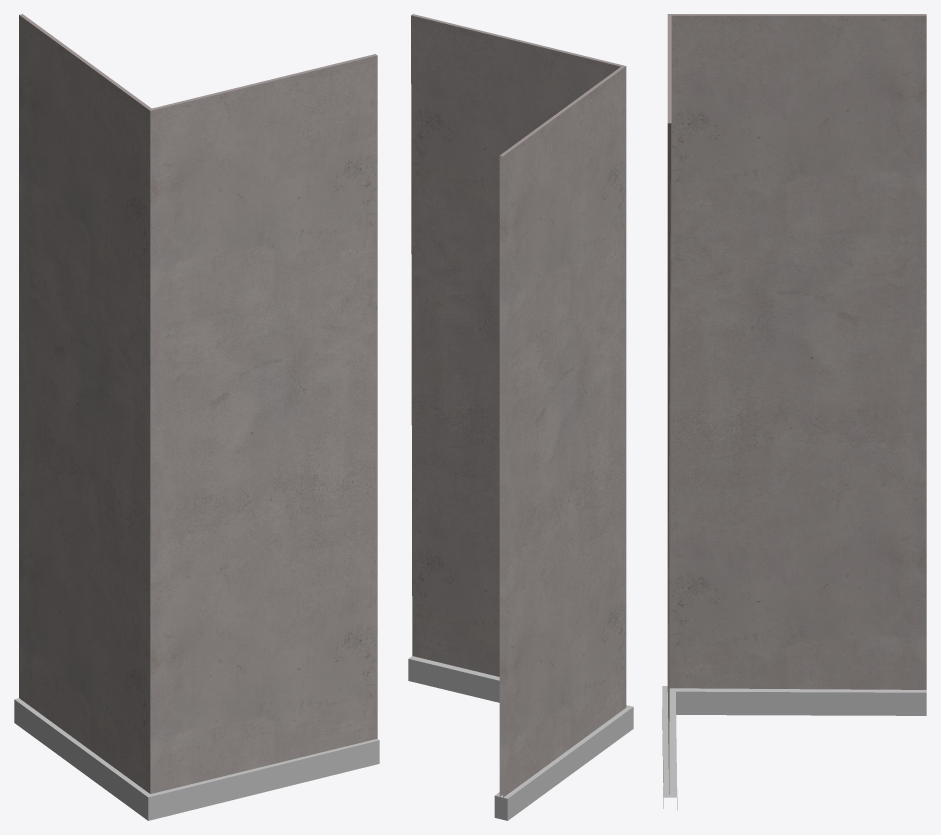
The model's file is SM_Corner_Blocking.fbx.
The picture shows the model from 3 angles, left to right: view 1: azimuth 30°, elevation 25°; view 2: azimuth 150°, elevation 25°; view 3: azimuth 270°, elevation 25°; orthographic projection. The views are drawn at different scales.
Visible parts, largest first — view 1: SM_Corner_Blocking; view 2: SM_Corner_Blocking; view 3: SM_Corner_Blocking.
Boxes of the visible parts, x1=… form: SM_Corner_Blocking: x1=14, y1=14, x2=379, y2=820; SM_Corner_Blocking: x1=408, y1=14, x2=633, y2=820; SM_Corner_Blocking: x1=662, y1=14, x2=926, y2=810.
Size of the model in its own units: 103 by 300 by 103.
